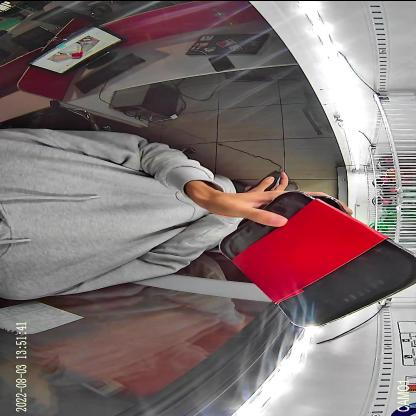red: (218, 190, 416, 327)
undefined: (236, 194, 348, 230)
